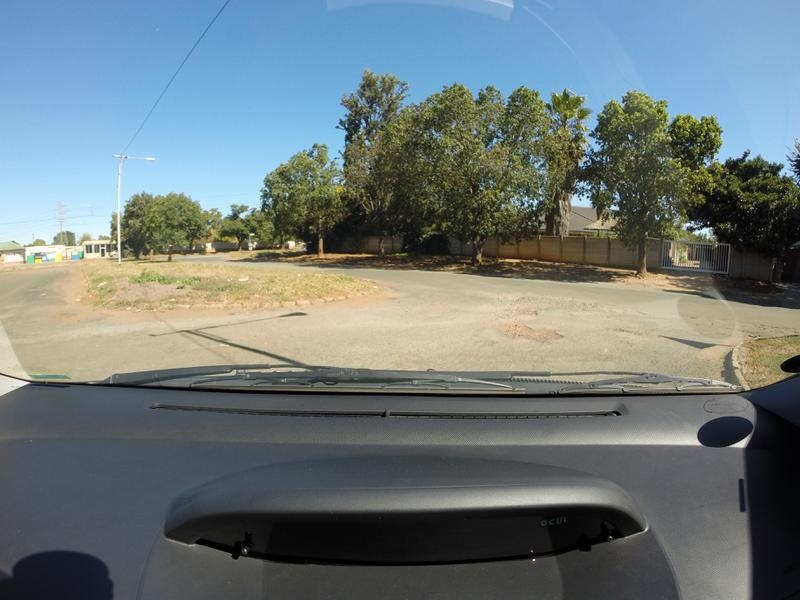pothole: (498, 325, 562, 342), (500, 311, 535, 319), (609, 328, 633, 333)
